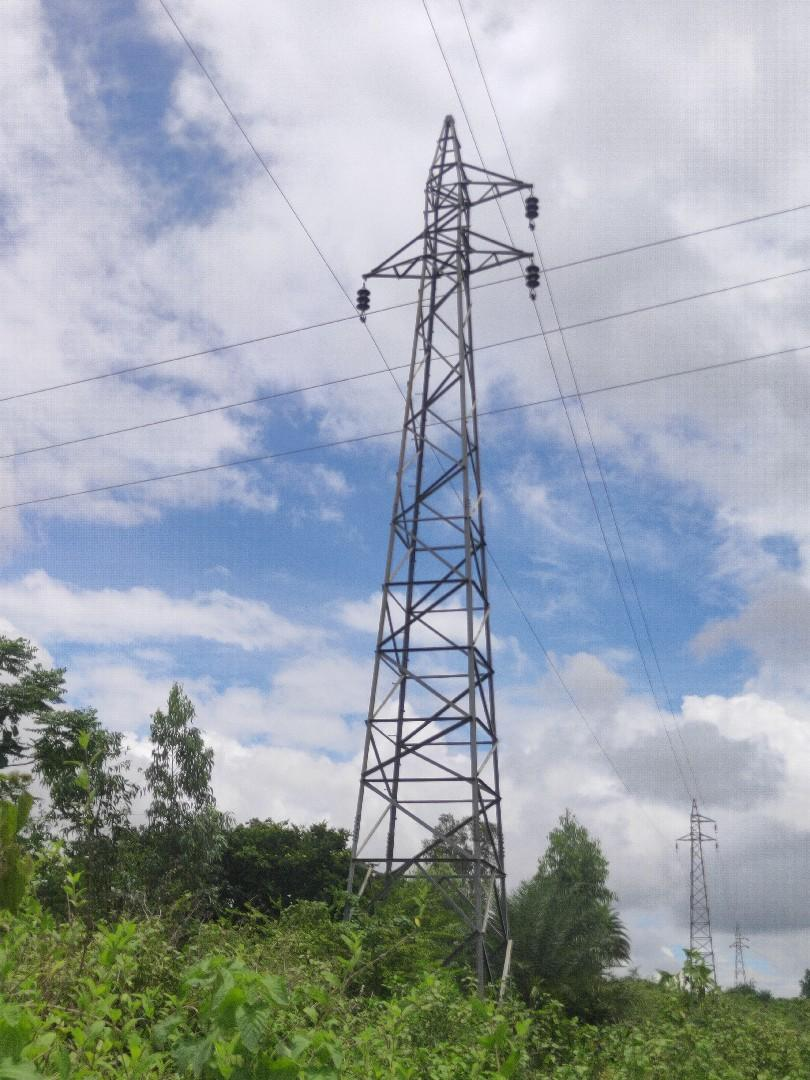GSM Antenna: (342, 112, 540, 966)
